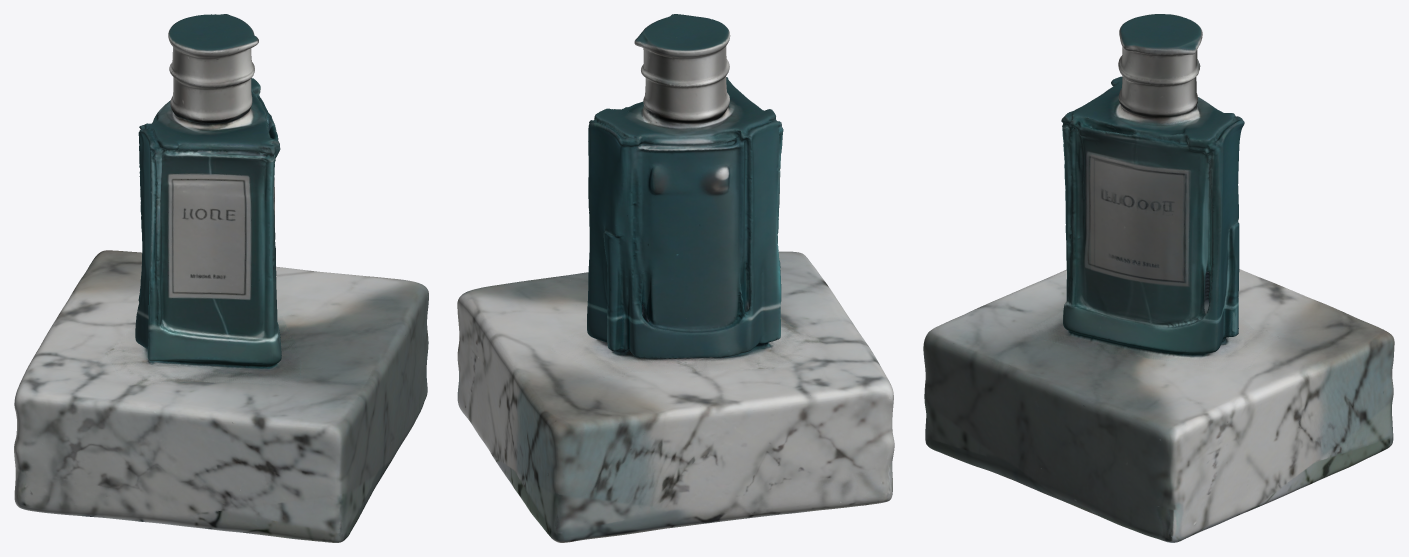
3 views of the same model, side by side, from view 1: azimuth 30°, elevation 25°; view 2: azimuth 150°, elevation 25°; view 3: azimuth 270°, elevation 25° (orthographic). The views are drawn at different scales.
Bounding box in the file's own units: 2 × 1.93 × 1.99.
Materials: 1 (1 with a texture image).
